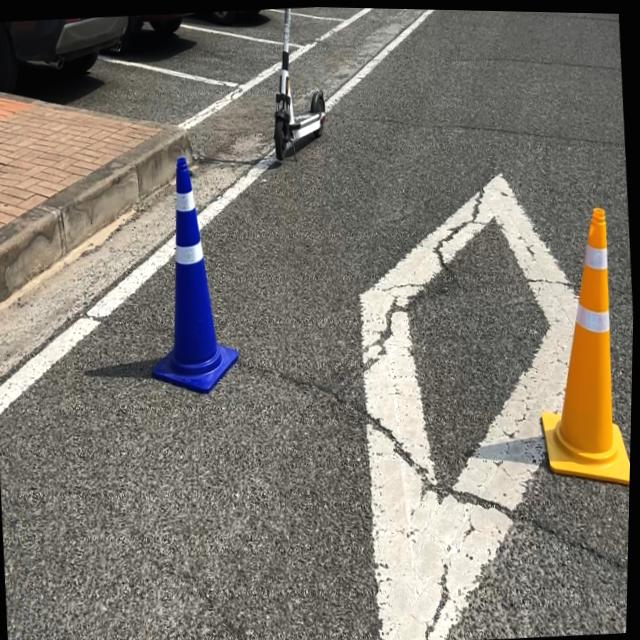b_rub: (153, 155, 240, 391)
y_rub: (544, 204, 632, 481)
